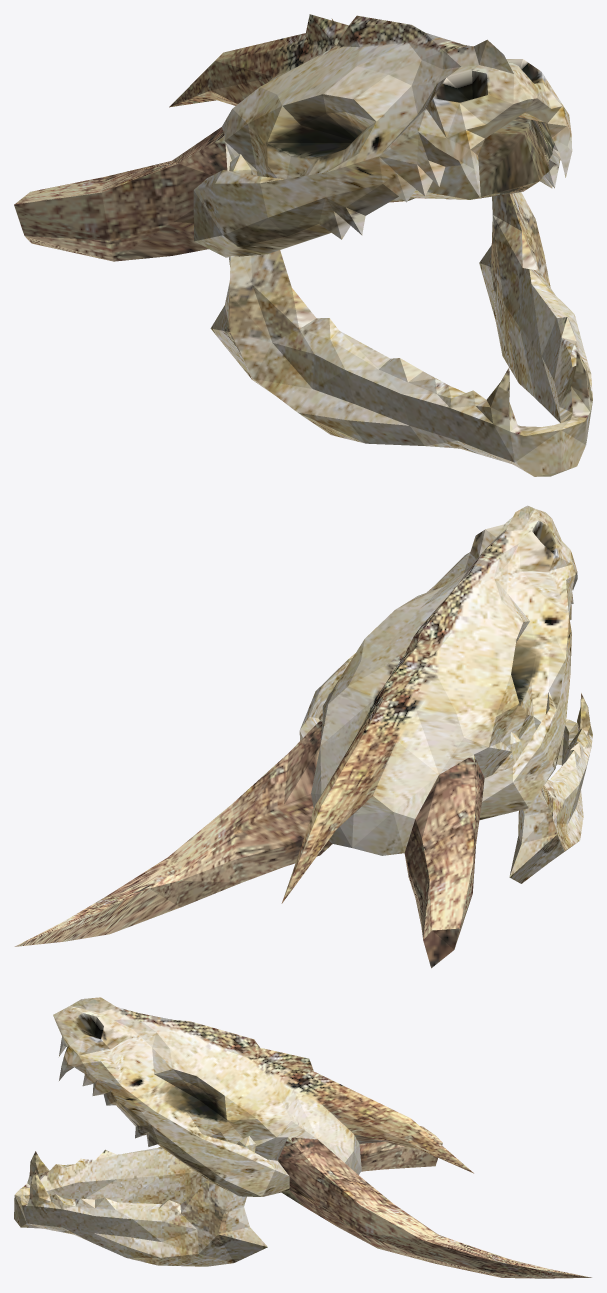
Rendered from poi_tato_skel_krayt_head_s01_l0.fbx.
The picture shows the model from 3 angles, top to bottom: view 1: azimuth 30°, elevation 25°; view 2: azimuth 150°, elevation 25°; view 3: azimuth 270°, elevation 25°; orthographic projection. The views are drawn at different scales.
Parts seen in each view (by area): view 1: mesh_node; view 2: mesh_node; view 3: mesh_node.
Boxes of the visible parts, x1,y1,x2,y2 form: mesh_node: (14,14,592,476); mesh_node: (14,505,592,968); mesh_node: (14,997,591,1278).
Bounding box in the file's own units: 2.86 × 2.41 × 5.28.
Materials: 1 (1 with a texture image).
